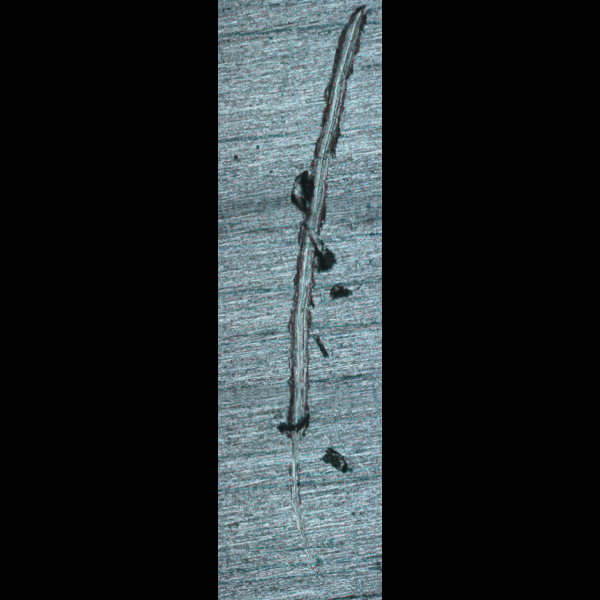d: (273, 3, 372, 584)
